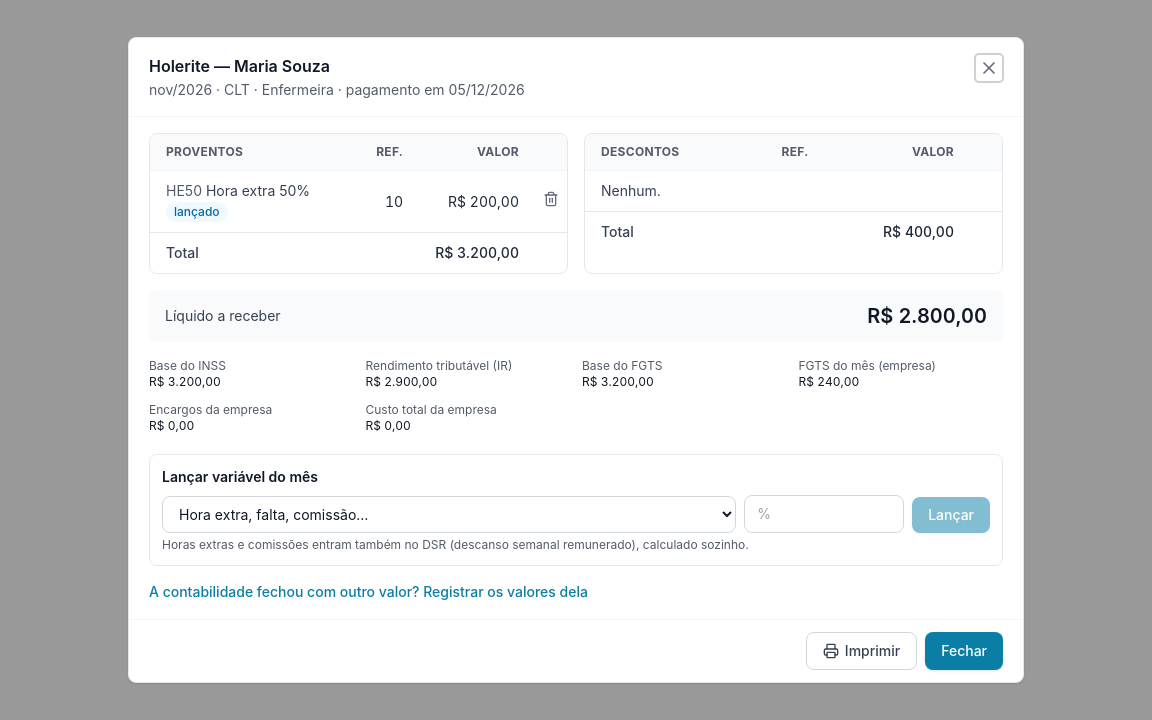
HoleriteModal: remover lançamento › sucesso: o holerite devolvido pela API entra na tela e a folha é avisada
Step 1. Click the button named "Remover Hora extra 50%" → (551, 199), box x1=543 y1=191 x2=559 y2=207
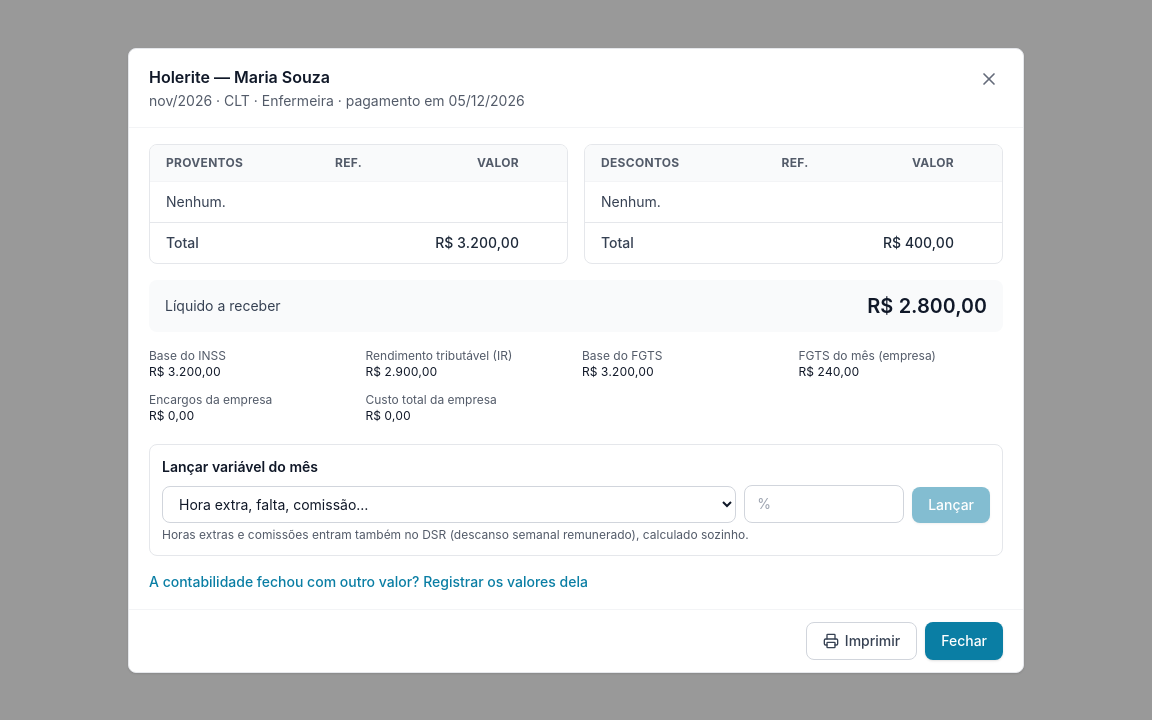
Result: the text "Hora extra 50%" is gone
